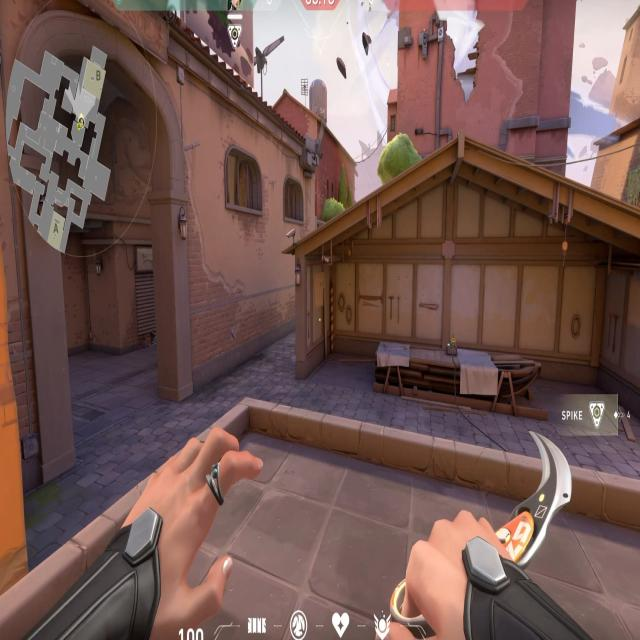B_Garage_Left: (294, 246, 422, 396)
Throwables: (222, 146, 265, 222), (282, 170, 307, 230)
